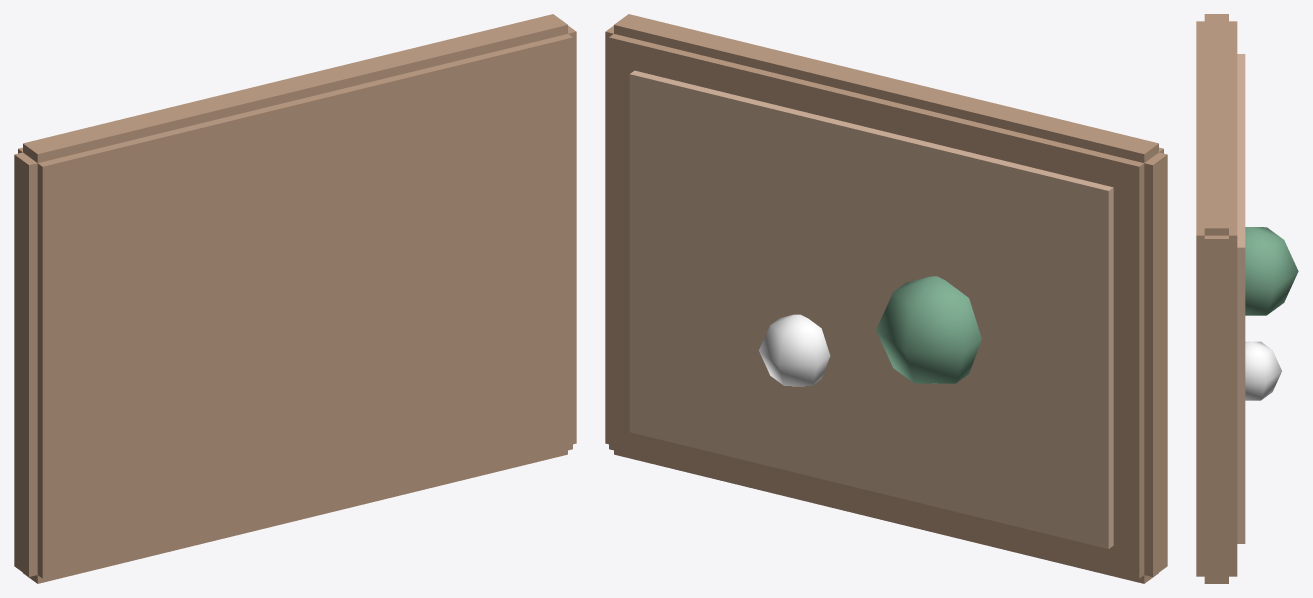
File: framed_photo.glb
3 views of the same model, side by side, from view 1: azimuth 30°, elevation 25°; view 2: azimuth 150°, elevation 25°; view 3: azimuth 270°, elevation 25° (orthographic). The views are drawn at different scales.
Visible parts, largest first — view 1: framed_photo; view 2: framed_photo; view 3: framed_photo.
Part boxes in pixels (x1,y1,x2,y2): framed_photo: [14, 14, 576, 583]; framed_photo: [605, 14, 1167, 583]; framed_photo: [1196, 14, 1298, 583].
Bounding box in the file's own units: 0.32 × 0.24 × 0.0625.
